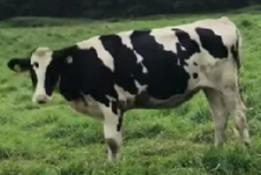cow: (8, 17, 250, 165)
